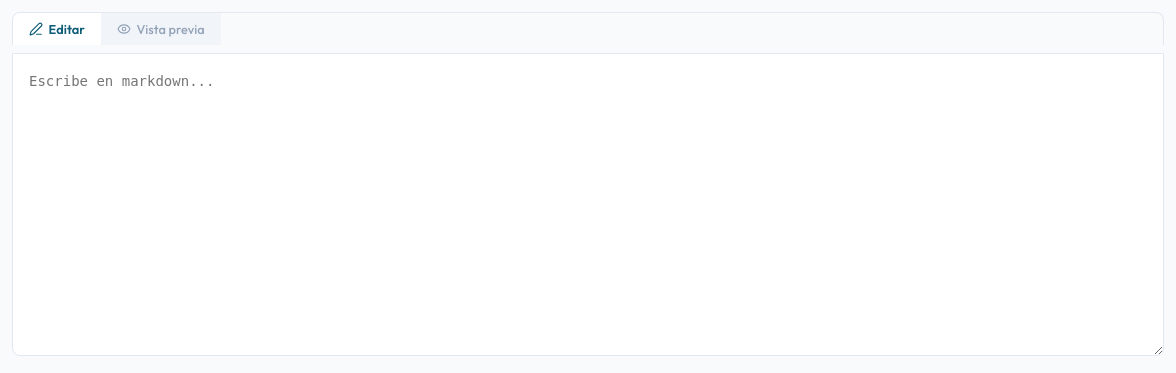
Test case: MarkdownEditor › shows empty preview message when value is empty
The image size is (1176, 373).
Click the button "Vista previa" at (161, 29), box x1=101 y1=13 x2=221 y2=45
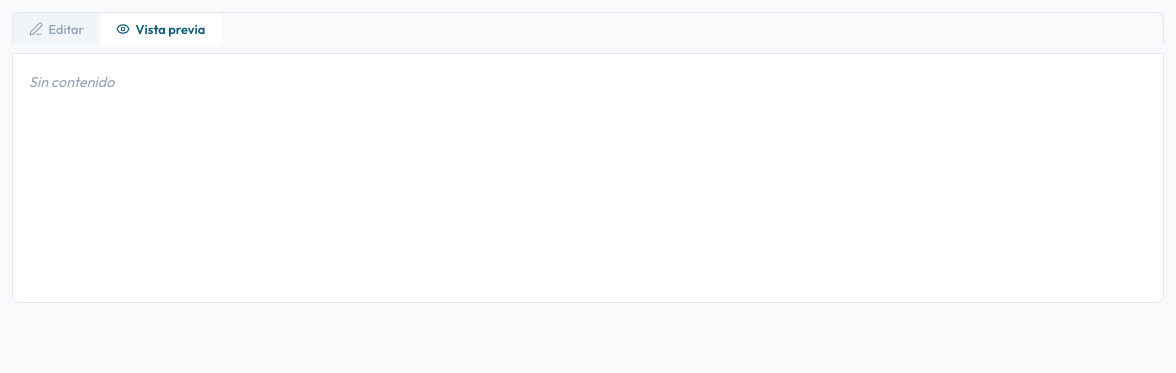
expect the text "Sin contenido" is shown: met, box x1=29 y1=73 x2=114 y2=91
